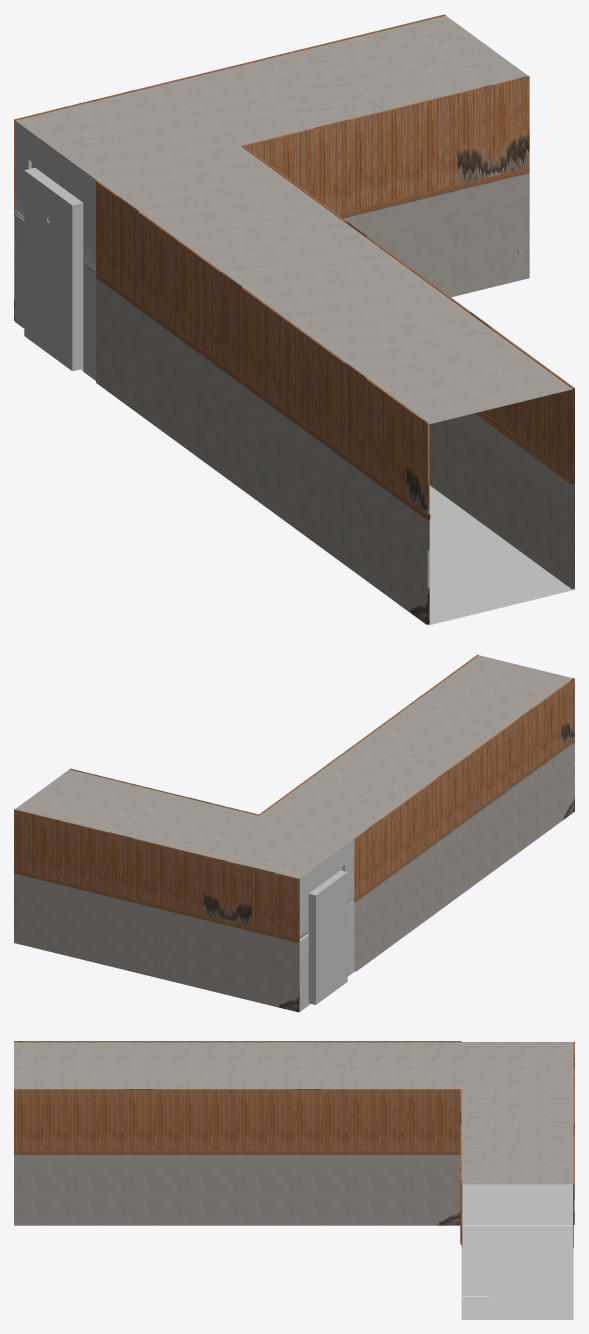
The model's file is Corridor.fbx.
The picture shows the model from 3 angles, top to bottom: view 1: azimuth 30°, elevation 25°; view 2: azimuth 150°, elevation 25°; view 3: azimuth 270°, elevation 25°; orthographic projection. The views are drawn at different scales.
Visible parts, largest first — view 1: pPlane152, corridor:pCube25 (×3), corridor:pCube27 (×3), corridor:pCube26 (×3), corridor:pCube29 (×2), corridor:pCube33 (×2), corridor:pCube31 (×3), corridor:pCube30 (×3), pCube29 (×2), corridor:pCube32 (×2), corridor:pCube12 (×4), pCube99 (+145 smaller); view 2: pPlane152, corridor:pCube29 (×3), corridor:pCube30 (×3), corridor:pCube26 (×3), corridor:pCube27 (×3), corridor:pCube25 (×3), corridor:pCube31 (×2), corridor:pCube32 (×2), corridor:pCube2 (×3), corridor:pCube5 (×3), corridor:pCube13 (×3), corridor:pCube10 (×3) (+32 smaller); view 3: corridor:pCube31 (×2), corridor:pCube26 (×2), corridor:pCube29 (×2), corridor:pCube27 (×2), corridor:pCube25 (×2), corridor:pCube32 (×2), pCube98, corridor:pCube33, pCube97, corridor:pCube30, corridor:pCube2 (×2), corridor:pCube7 (×2) (+72 smaller).
Part boxes in pixels (<box>): pPlane152: <box>15,120,97,380</box>; corridor:pCube25 (×3): <box>199,75,529,514</box>; corridor:pCube27 (×3): <box>158,93,457,482</box>; corridor:pCube26 (×3): <box>179,84,493,497</box>; corridor:pCube29 (×2): <box>324,111,386,453</box>; corridor:pCube33 (×2): <box>137,102,421,315</box>; corridor:pCube31 (×3): <box>278,128,553,462</box>; corridor:pCube30 (×3): <box>96,181,532,447</box>; pCube29 (×2): <box>220,272,263,391</box>; corridor:pCube32 (×2): <box>262,302,574,478</box>; corridor:pCube12 (×4): <box>137,229,490,542</box>; pCube99: <box>313,119,350,213</box>; pPlane152: <box>299,839,354,1011</box>; corridor:pCube29 (×3): <box>85,718,519,938</box>; corridor:pCube30 (×3): <box>61,728,506,898</box>; corridor:pCube26 (×3): <box>156,688,561,909</box>; corridor:pCube27 (×3): <box>132,698,547,903</box>; corridor:pCube25 (×3): <box>180,678,574,914</box>; corridor:pCube31 (×2): <box>37,738,492,880</box>; corridor:pCube32 (×2): <box>14,748,478,874</box>; corridor:pCube2 (×3): <box>156,953,275,1006</box>; corridor:pCube5 (×3): <box>85,935,299,1012</box>; corridor:pCube13 (×3): <box>85,911,299,987</box>; corridor:pCube10 (×3): <box>156,928,275,981</box>; corridor:pCube31 (×2): <box>42,1089,293,1150</box>; corridor:pCube26 (×2): <box>182,1089,433,1150</box>; corridor:pCube29 (×2): <box>98,1089,349,1150</box>; corridor:pCube27 (×2): <box>154,1089,405,1150</box>; corridor:pCube25 (×2): <box>210,1089,461,1150</box>; corridor:pCube32 (×2): <box>14,1089,265,1150</box>; pCube98: <box>293,1089,321,1150</box>; corridor:pCube33: <box>349,1089,377,1150</box>; pCube97: <box>126,1089,153,1150</box>; corridor:pCube30: <box>70,1089,97,1150</box>; corridor:pCube2 (×2): <box>182,1200,433,1225</box>; corridor:pCube7 (×2): <box>42,1200,293,1225</box>.
Bounding box in the file's own units: 122 × 53.75 × 201.
